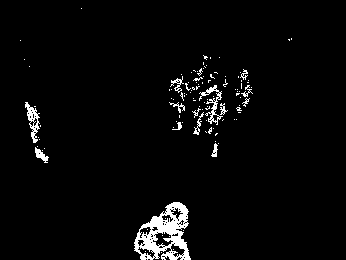person: (131, 201, 193, 260), (193, 80, 223, 156), (23, 100, 50, 162)
